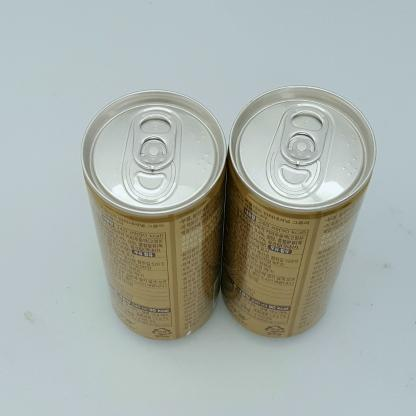-----------------240ML: (221, 85, 376, 338), (80, 89, 227, 340)
